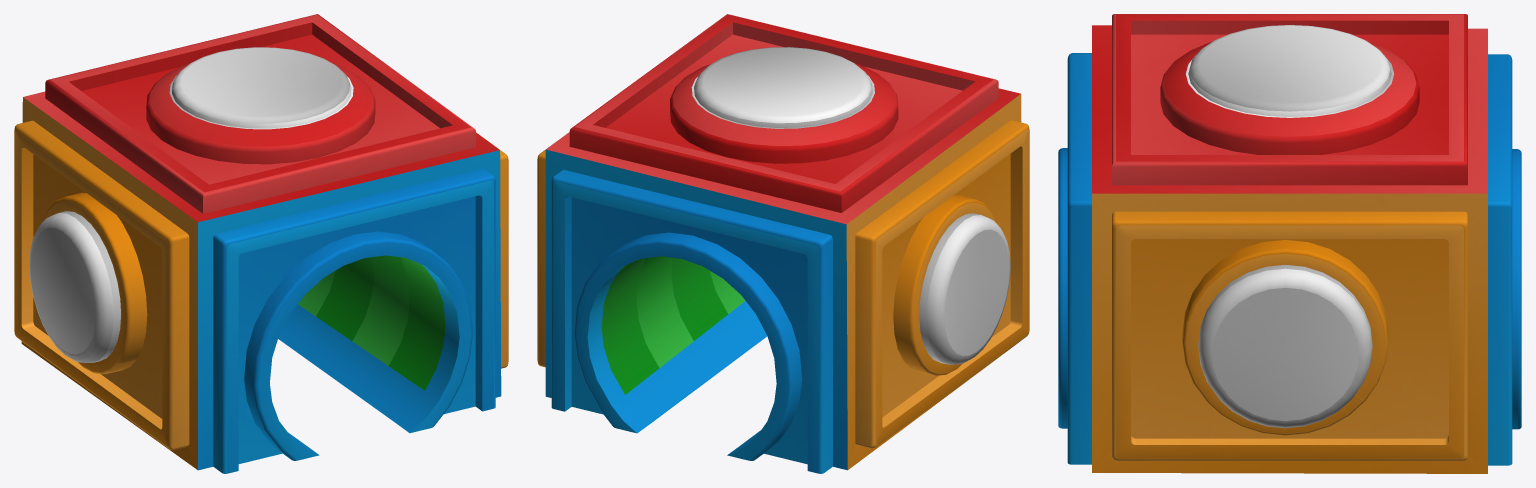
Rendered from baby_boss_buyutme_kucultme_kapi_yeni4.fbx.
3 views of the same model, side by side, from view 1: azimuth 30°, elevation 25°; view 2: azimuth 150°, elevation 25°; view 3: azimuth 270°, elevation 25° (orthographic). The views are drawn at different scales.
Visible parts, largest first — view 1: baby_boss_buyume_kapi_yeni.002; view 2: baby_boss_buyume_kapi_yeni.002; view 3: baby_boss_buyume_kapi_yeni.002.
Boxes of the visible parts, box(x1,y1,x2,y2) form: baby_boss_buyume_kapi_yeni.002: box(14, 14, 508, 473); baby_boss_buyume_kapi_yeni.002: box(537, 14, 1029, 473); baby_boss_buyume_kapi_yeni.002: box(1058, 14, 1521, 473).
Size of the model in its own units: 2.44 by 1.71 by 2.21.
